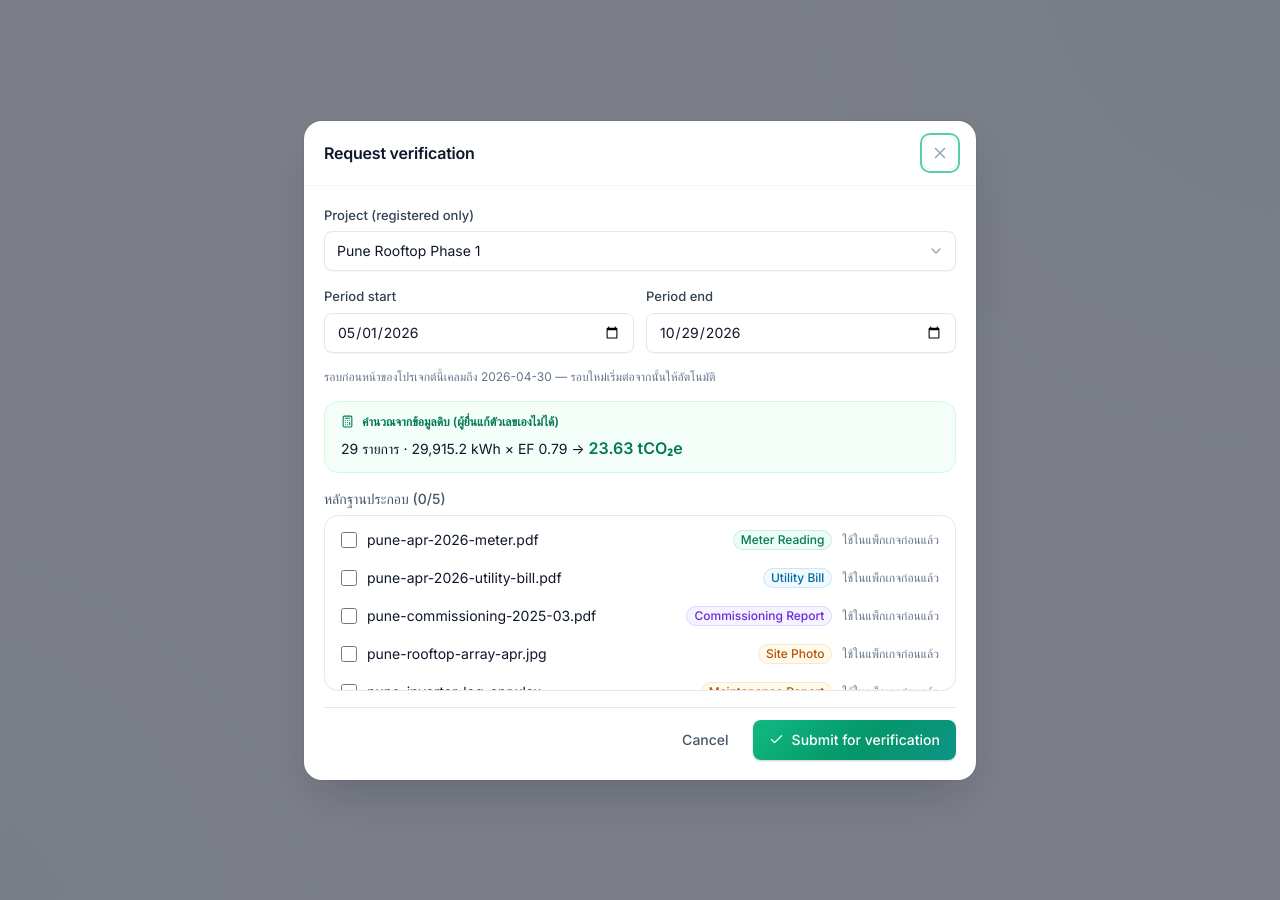
RequestVerificationModal › blocks an overlapping period with a Verra double-counting warning
The image size is (1280, 900).
drag the start back INTO the already-claimed Jan–Apr window
Type "2026-03-15" into the date field labelled "Period start" at (479,332), box [324,312,634,352]
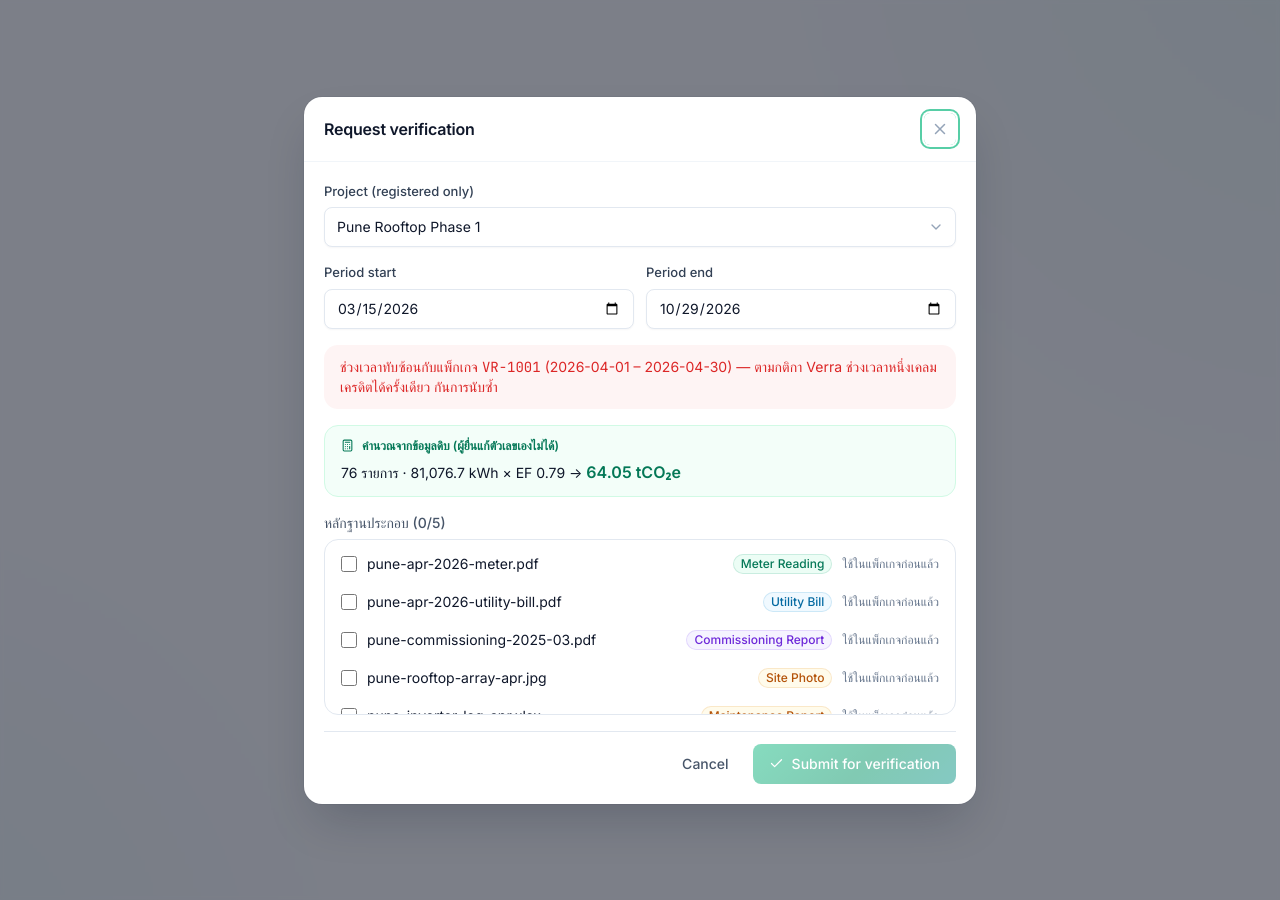
expect the element with test id "overlap-warning" shows "ทับซ้อน": met, box [340,358,482,374]
expect the button "Submit for verification" is disabled: met, box [753,744,956,784]
